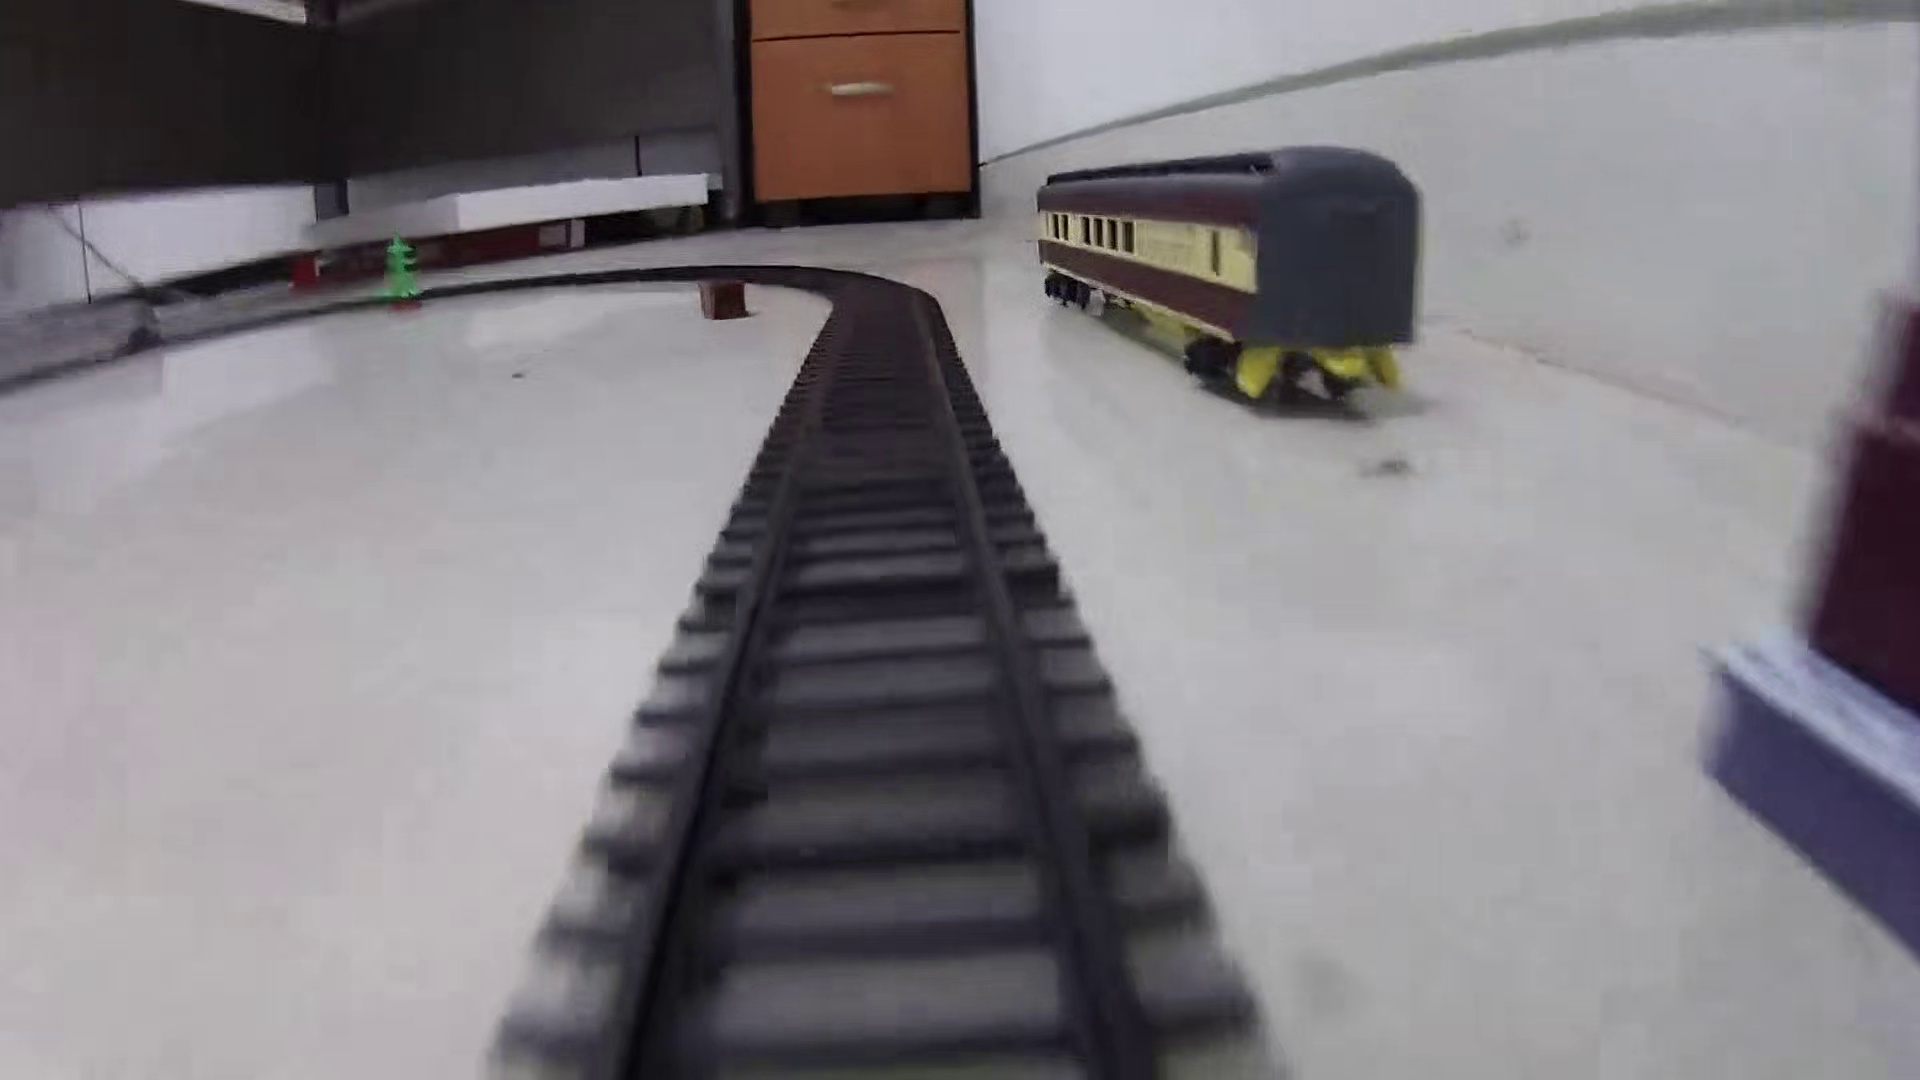box: (699, 274, 752, 322)
tree: (382, 227, 429, 315)
